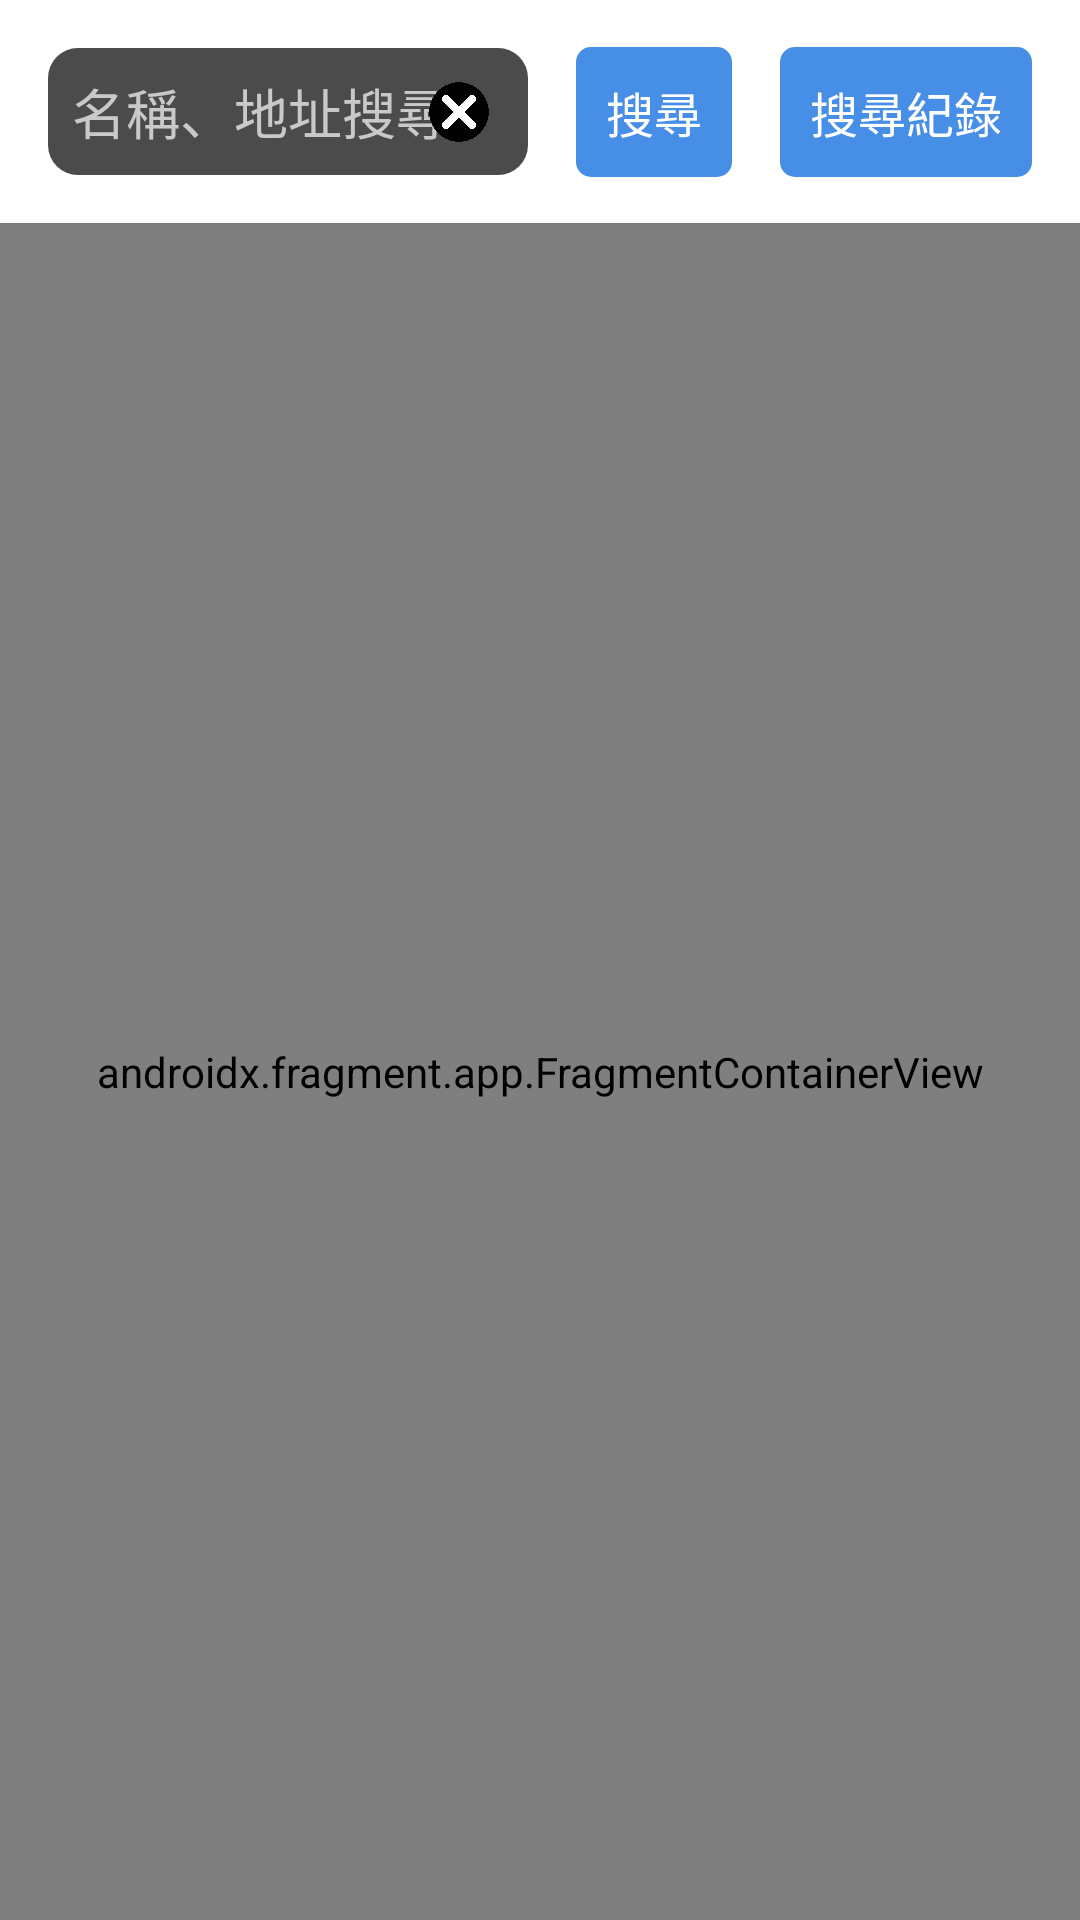

Screen size 1080w x 1920h. Icon name, then its box in pixels as box=[x1, y1, x2, y2]:
cancel: box=[414, 82, 489, 142]
